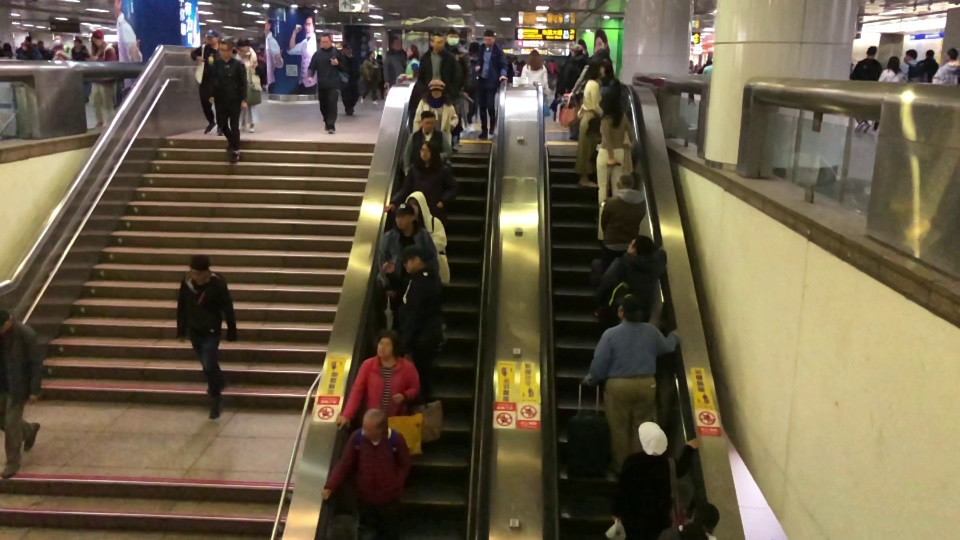person_head: (360, 407, 387, 439), (373, 329, 402, 357), (691, 502, 721, 528), (640, 430, 668, 456), (626, 235, 655, 257), (616, 299, 642, 321), (188, 259, 209, 283), (600, 92, 621, 114), (402, 251, 422, 272), (393, 209, 414, 227), (586, 59, 604, 79), (417, 140, 434, 161), (420, 110, 435, 130), (445, 27, 462, 44), (0, 307, 11, 332), (217, 39, 233, 56), (428, 31, 444, 48), (616, 173, 634, 188), (237, 37, 251, 53), (428, 81, 442, 97), (407, 197, 420, 214), (482, 29, 496, 44), (887, 55, 899, 72), (319, 32, 332, 46), (904, 48, 917, 62), (92, 31, 104, 46), (205, 32, 219, 44), (527, 49, 540, 61), (865, 45, 877, 57), (945, 48, 957, 60), (468, 41, 479, 54), (390, 36, 401, 48), (406, 46, 417, 57), (571, 46, 582, 55), (73, 38, 82, 48), (925, 49, 935, 57), (2, 41, 11, 49), (54, 35, 62, 44), (344, 45, 352, 54), (367, 50, 375, 57), (24, 34, 31, 41), (706, 59, 712, 65)
person_vbox: (582, 298, 684, 484), (320, 407, 412, 538), (175, 259, 238, 420), (609, 430, 699, 537), (335, 329, 421, 429), (0, 307, 40, 481), (386, 250, 443, 366), (597, 235, 667, 327), (407, 197, 451, 329), (383, 140, 458, 215), (208, 40, 248, 162), (599, 173, 646, 270), (595, 92, 635, 205), (307, 32, 348, 135), (377, 209, 439, 276), (573, 59, 605, 187), (474, 29, 509, 141), (190, 32, 222, 136), (411, 81, 459, 148), (402, 110, 451, 174), (85, 31, 118, 126), (419, 31, 463, 98), (849, 45, 881, 134), (872, 55, 903, 138), (234, 37, 259, 132), (557, 46, 582, 141), (444, 28, 472, 99), (339, 45, 362, 116), (520, 48, 551, 95), (71, 38, 92, 102), (382, 36, 406, 88), (932, 48, 959, 85), (899, 48, 927, 83), (468, 42, 479, 131), (360, 50, 377, 106), (918, 48, 938, 84), (17, 34, 41, 59), (51, 34, 71, 60), (406, 46, 418, 79), (1, 41, 13, 58), (702, 59, 712, 73)
